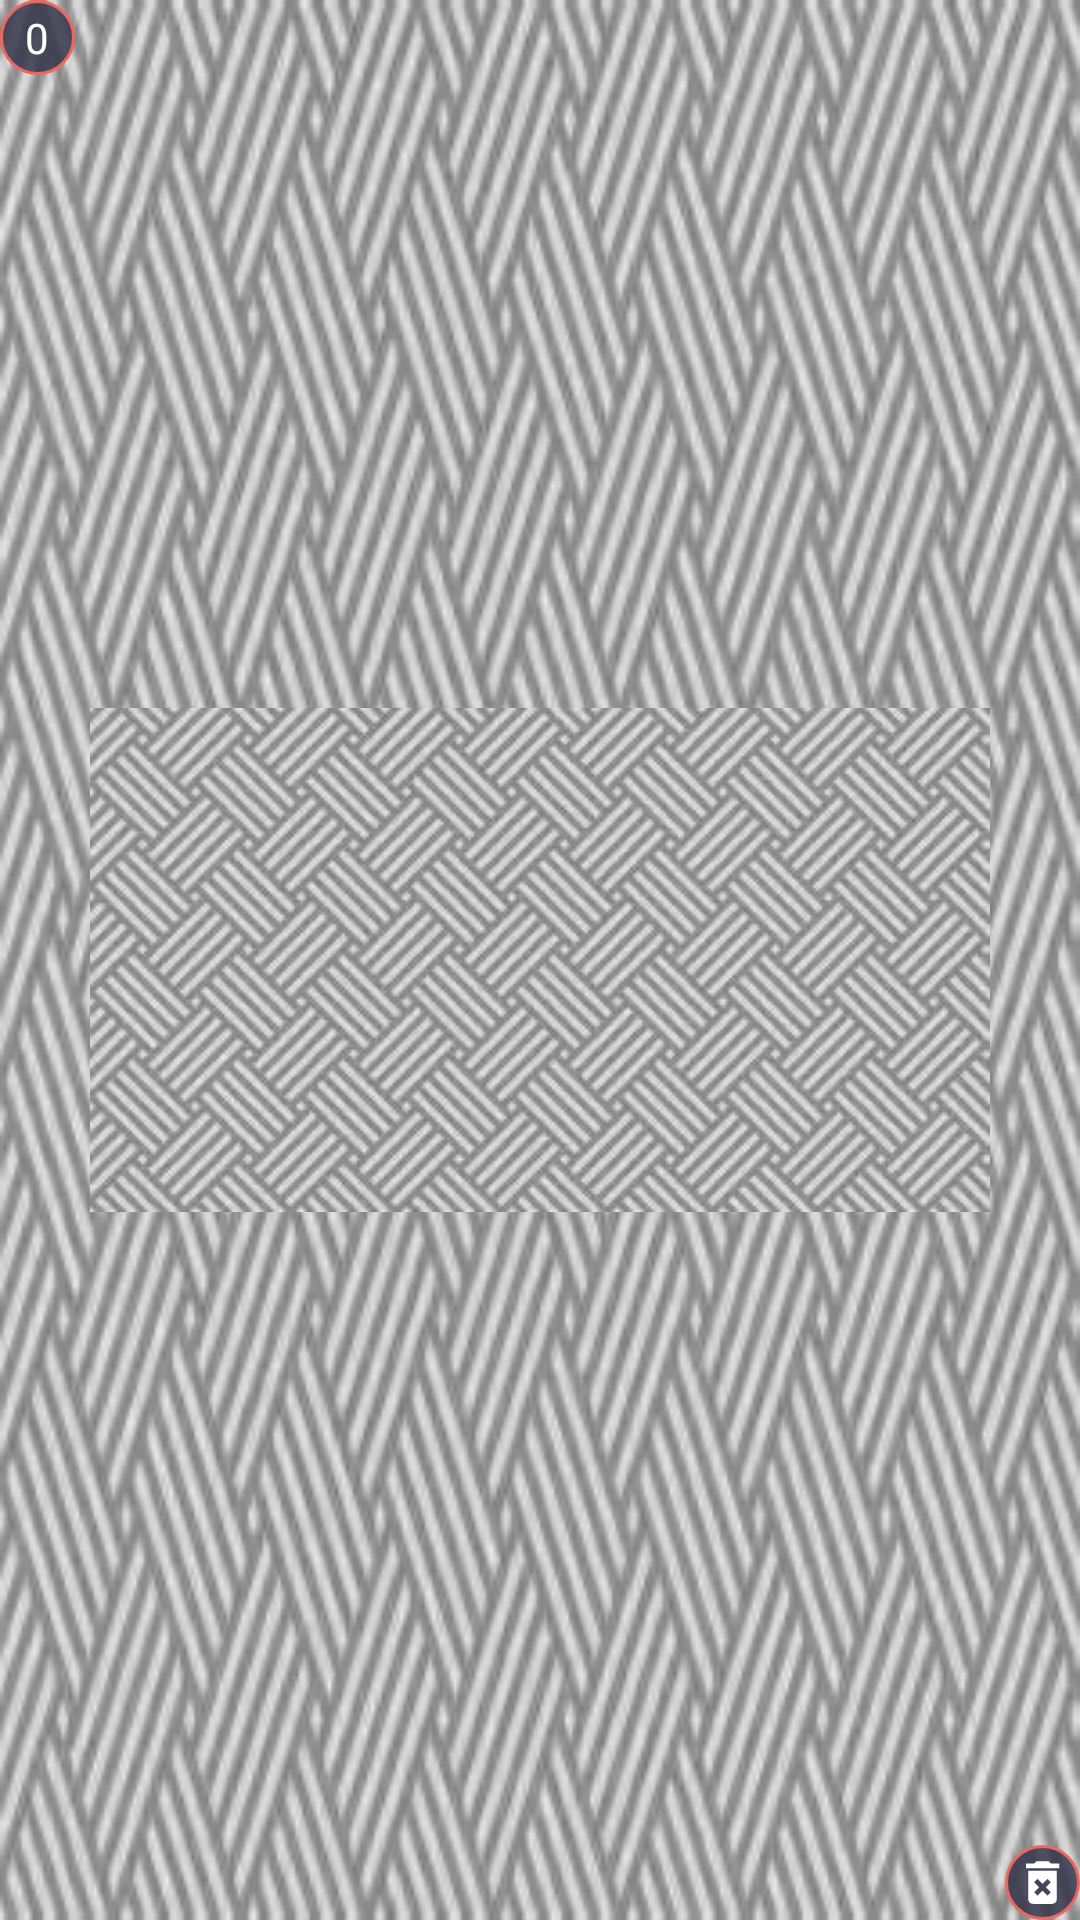

Point at icon controls on the screen. Image size 1080 x 1920, points as (x=x, y=y).
delete image from gallery: (x=1042, y=1882)
